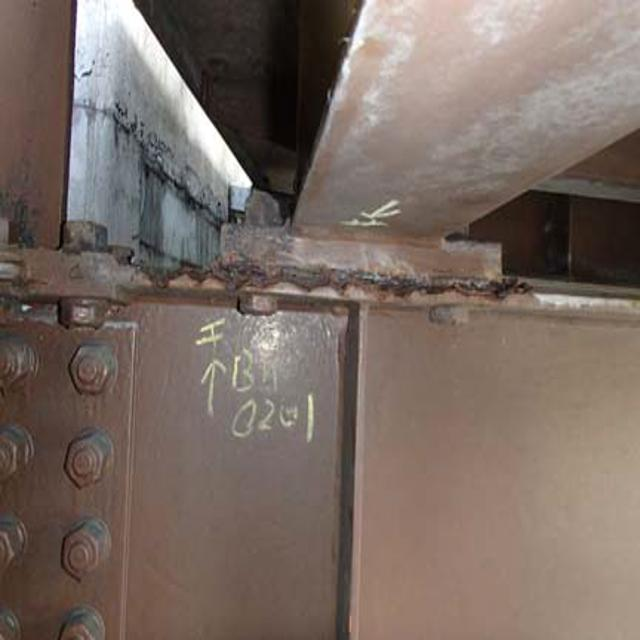corrosion: (183, 186, 524, 314)
